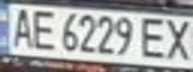2: (93, 12, 118, 56), (75, 11, 96, 55)
6: (57, 10, 81, 53)
9: (112, 14, 139, 57)
A: (6, 5, 39, 48)
E: (136, 14, 172, 61), (27, 6, 60, 52)
X: (160, 15, 193, 62)
